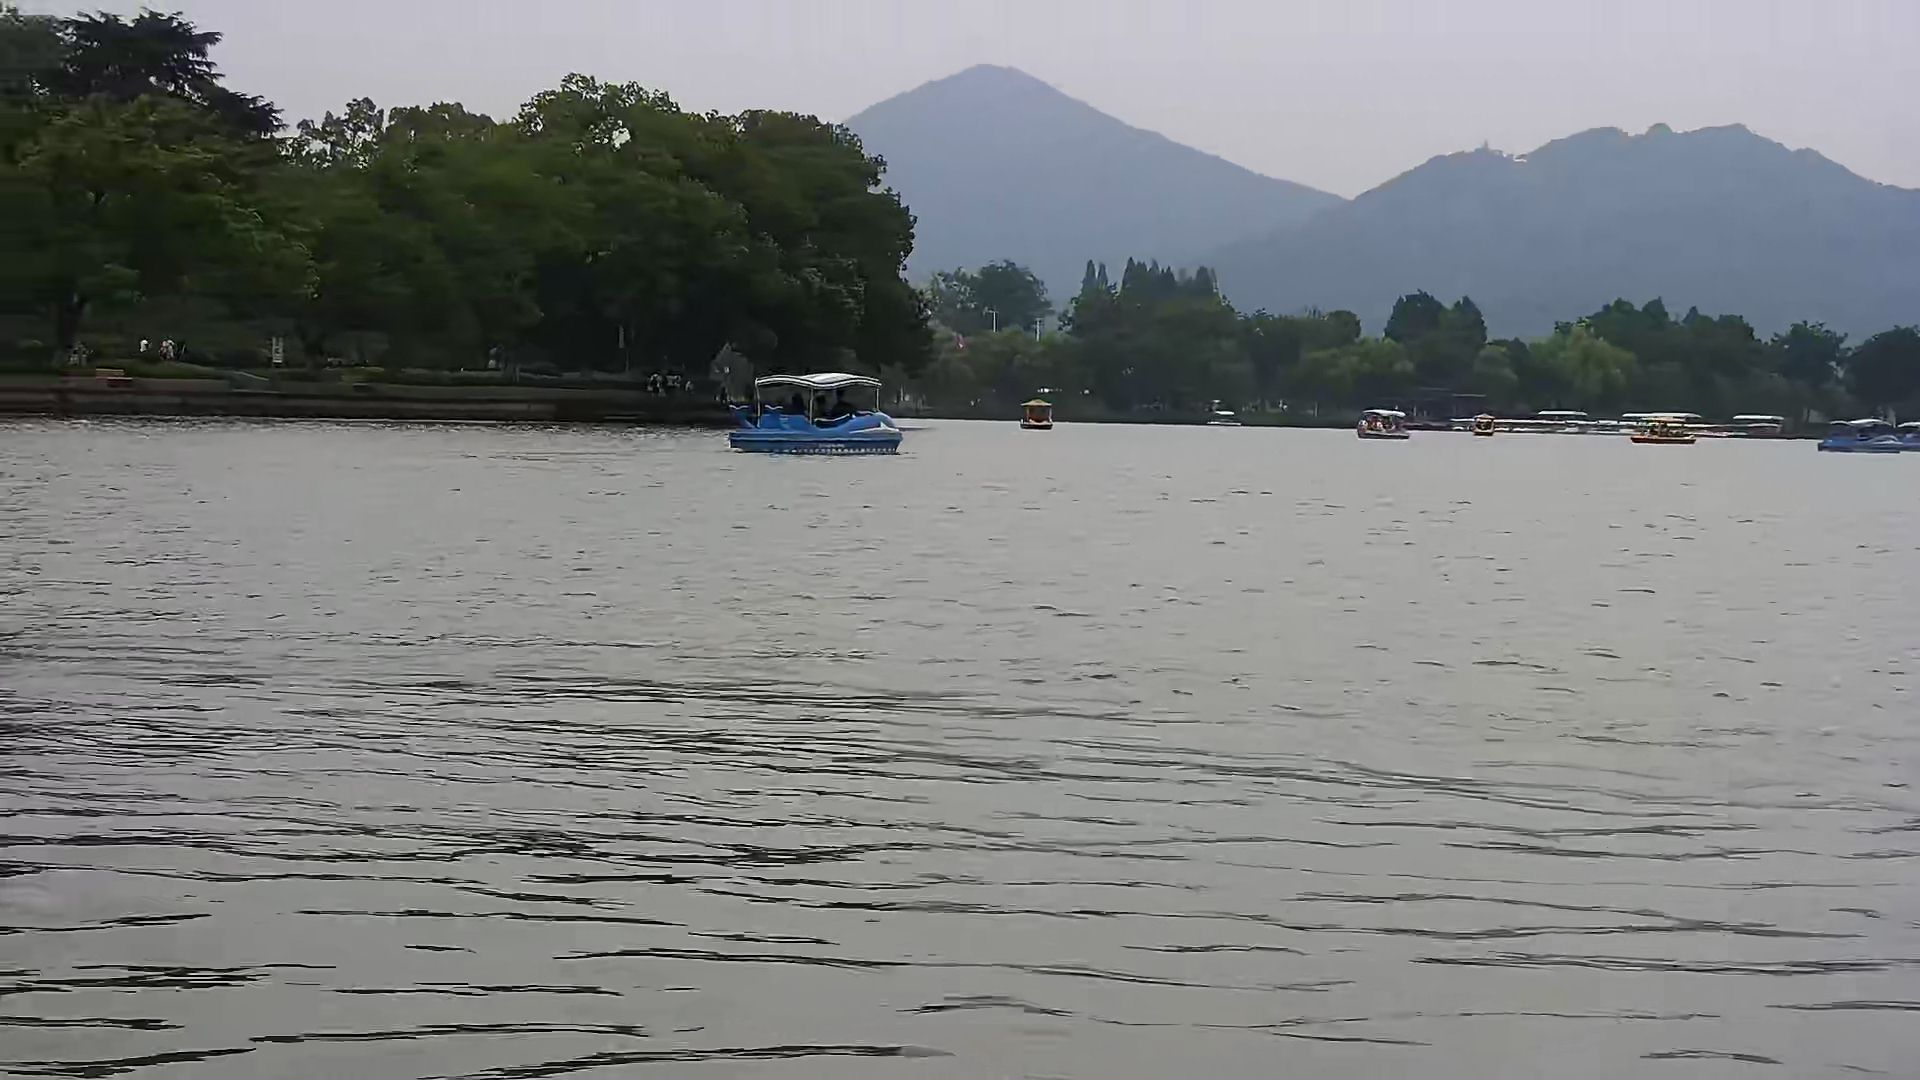boat: (731, 367, 901, 460), (1813, 418, 1907, 458), (1354, 404, 1411, 442), (1629, 411, 1693, 444), (1015, 392, 1054, 433)
